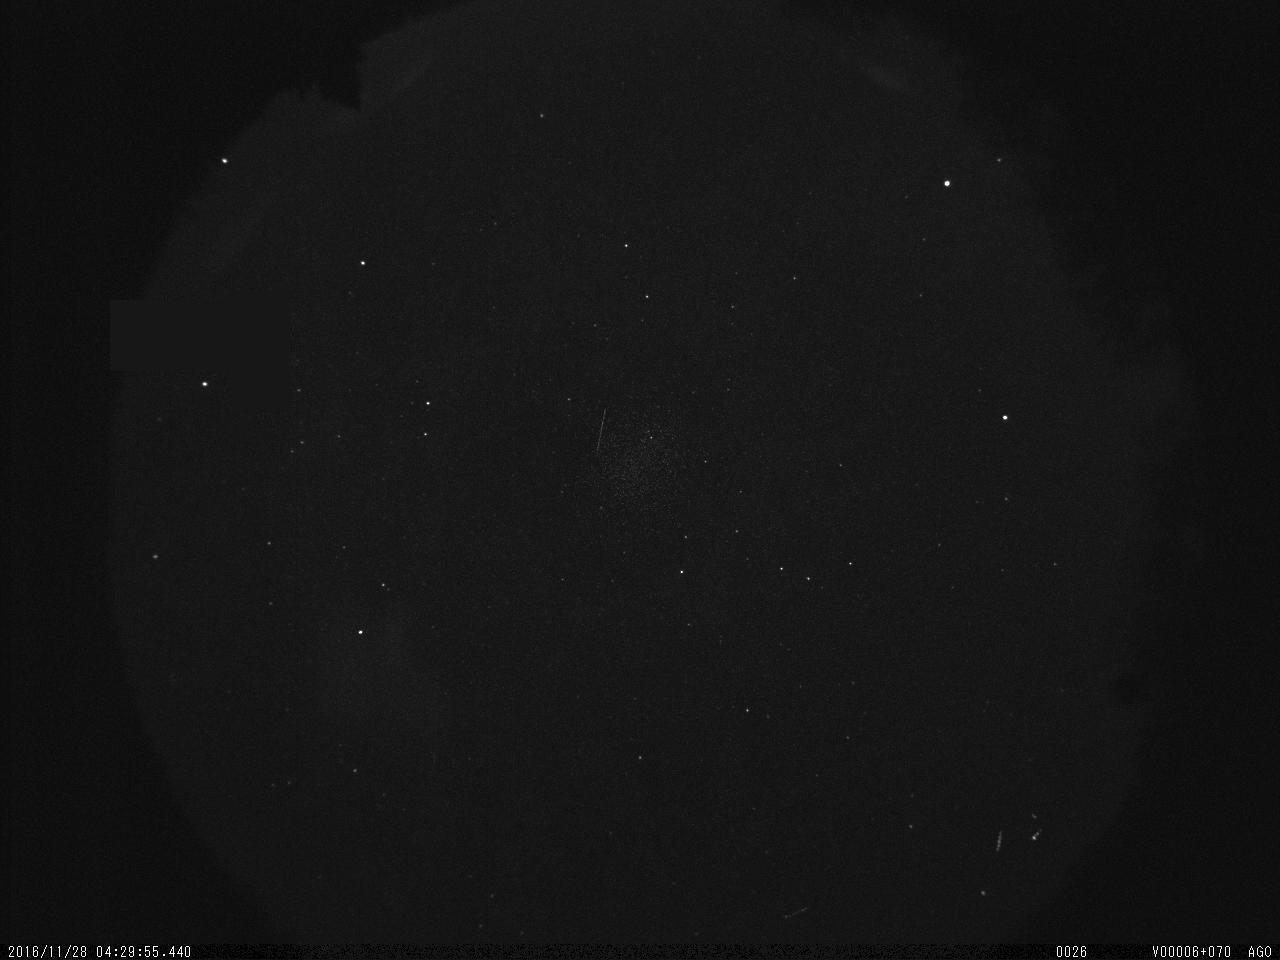Meteor: (994, 826, 1007, 861), (1028, 821, 1044, 849)
